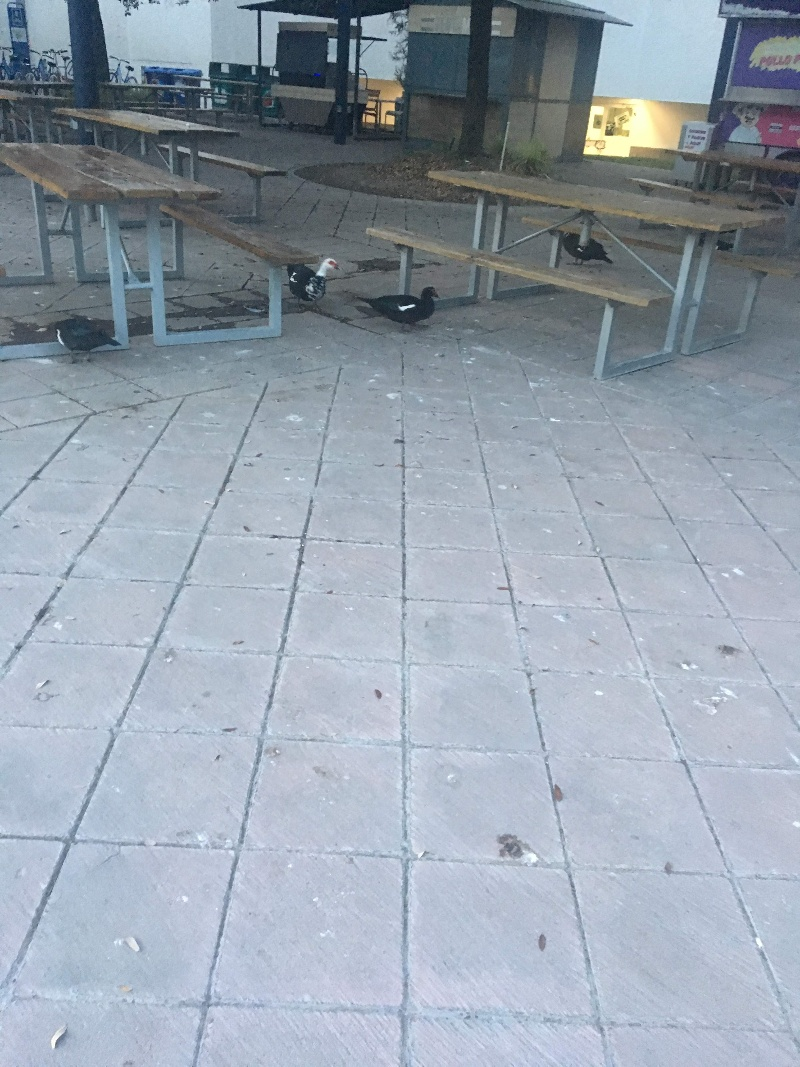pato: (41, 314, 118, 359), (370, 285, 444, 324), (279, 262, 341, 306)
